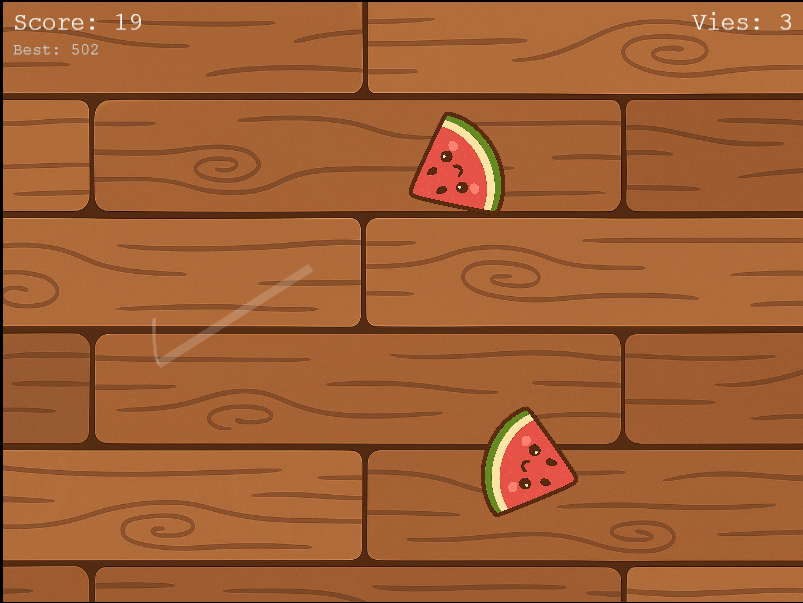fruit: (475, 405, 583, 523), (407, 109, 508, 218)
